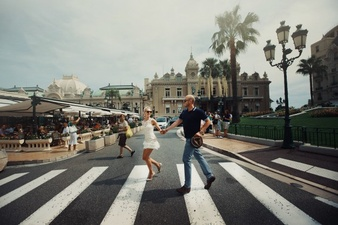pedestrian: (160, 91, 219, 195), (136, 105, 168, 181), (113, 112, 137, 157)
